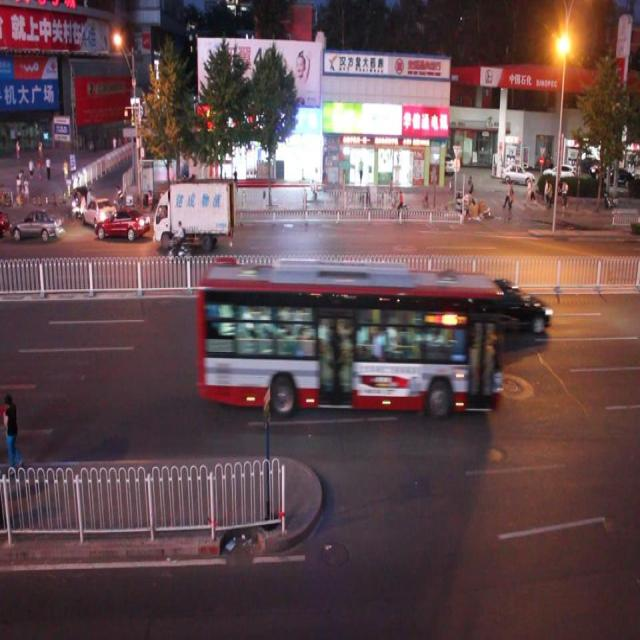bus: (153, 179, 235, 246)
car: (461, 272, 550, 336), (166, 185, 223, 232), (11, 202, 65, 241), (95, 208, 150, 240), (82, 195, 115, 228), (71, 182, 92, 214)
van: (198, 262, 498, 410)
